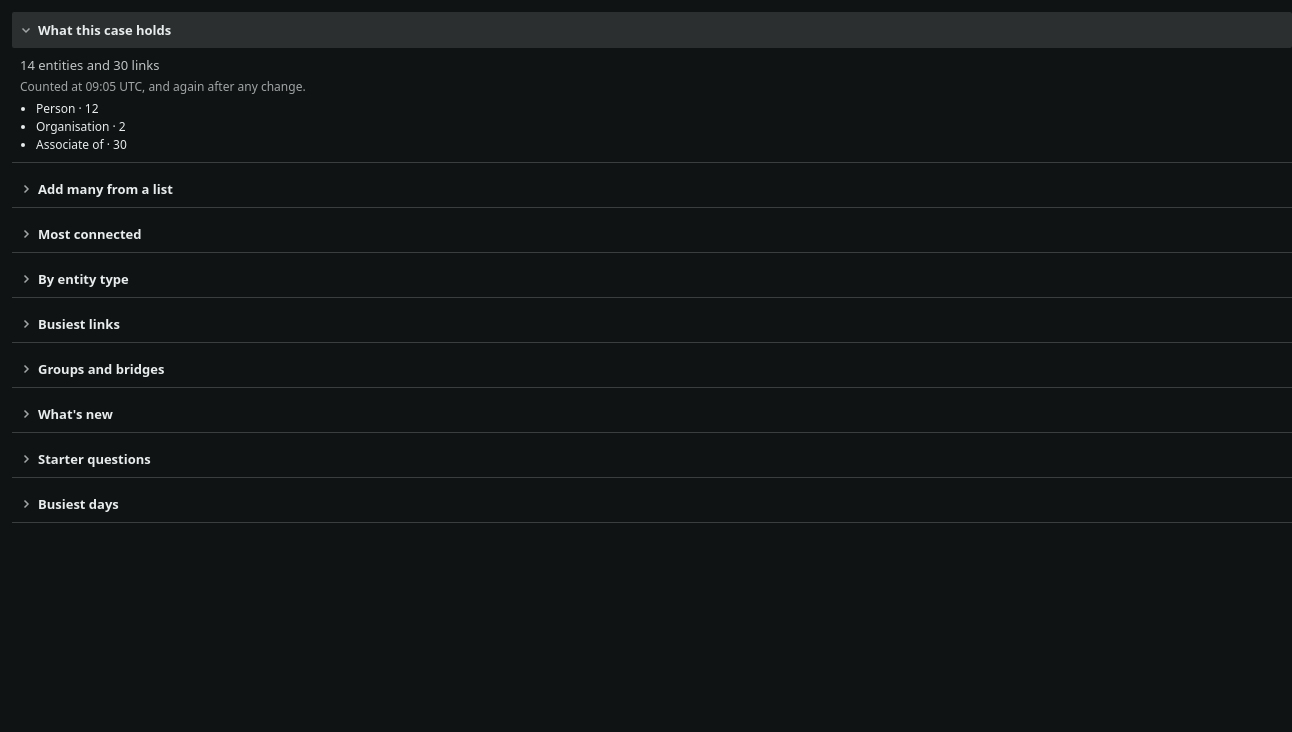
Test: ExplorePanel › ranks the most connected and says of how many
What coordinates should you click on to do the following:
click the button "Most connected"
I would click on:
 (90, 234)
Its box is [12,216,1291,252].
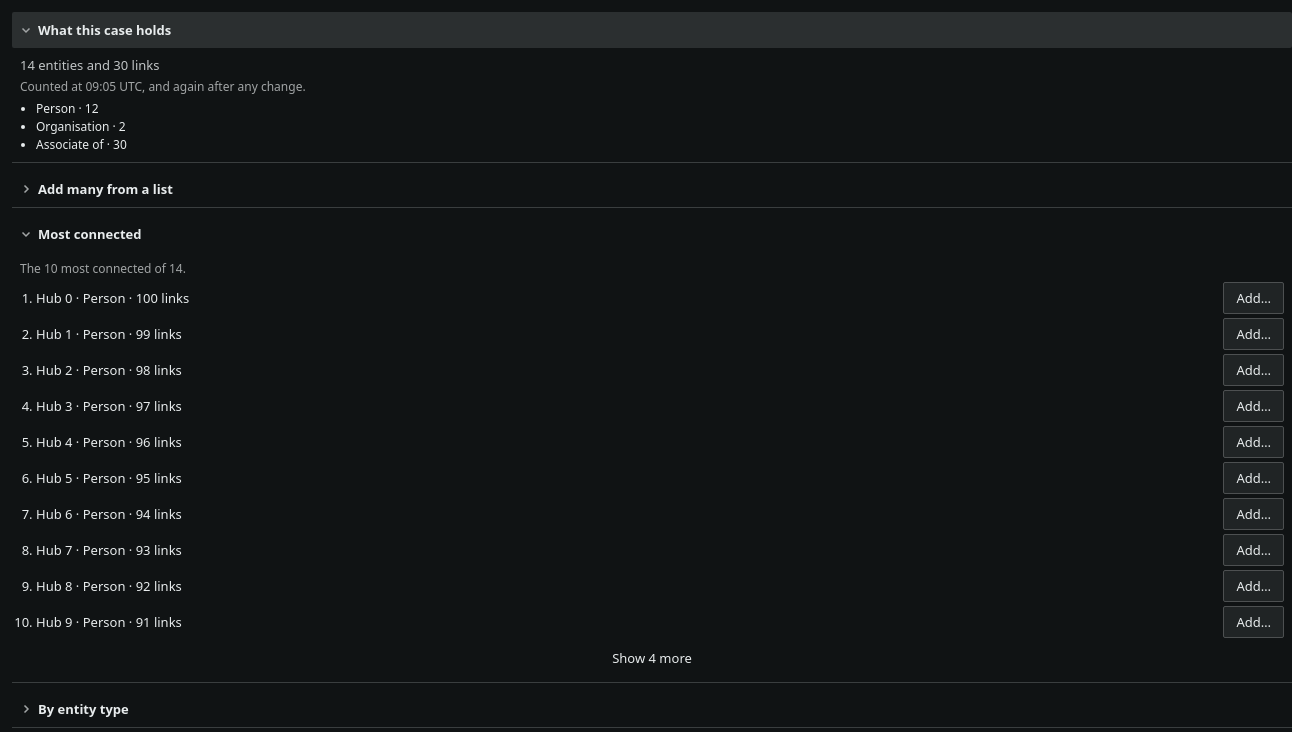
expect the text "The 10 most connected of 14." is shown: met, box [20,260,186,277]
expect the number of buttons "Add…" is 10: met
expect the text "Hub 0 · Person · 100 links" is shown: met, box [36,289,189,307]
